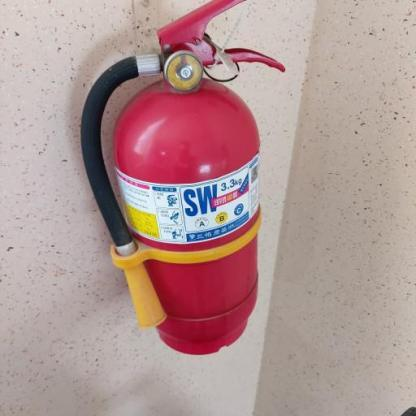Fire Extinguisher: (67, 2, 299, 371)
